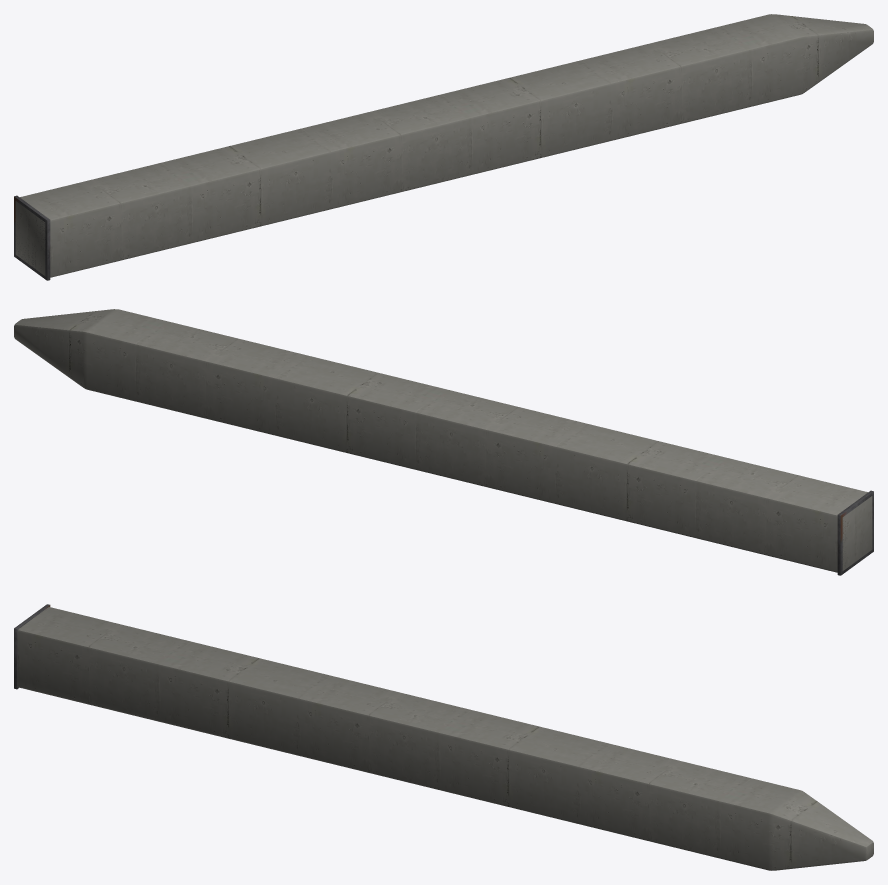
File: FUN-PRE-001.glb
3 renders of one model, top to bottom at view 1: azimuth 30°, elevation 25°; view 2: azimuth 150°, elevation 25°; view 3: azimuth 330°, elevation 25°, orthographic.
Parts seen in each view (by area): view 1: FUN-PRE-001_estaca-premoldada-20x20, FUN-PRE-001_anel; view 2: FUN-PRE-001_estaca-premoldada-20x20, FUN-PRE-001_anel; view 3: FUN-PRE-001_estaca-premoldada-20x20.
Boxes of the visible parts, x1=… form: FUN-PRE-001_estaca-premoldada-20x20: x1=15, y1=14, x2=873, y2=277; FUN-PRE-001_anel: x1=14, y1=195, x2=50, y2=280; FUN-PRE-001_estaca-premoldada-20x20: x1=14, y1=309, x2=872, y2=572; FUN-PRE-001_anel: x1=837, y1=490, x2=873, y2=575; FUN-PRE-001_estaca-premoldada-20x20: x1=17, y1=607, x2=873, y2=870.
Size of the model in its own units: 3 by 0.206 by 0.206.
Materials: 2 (2 with a texture image).
